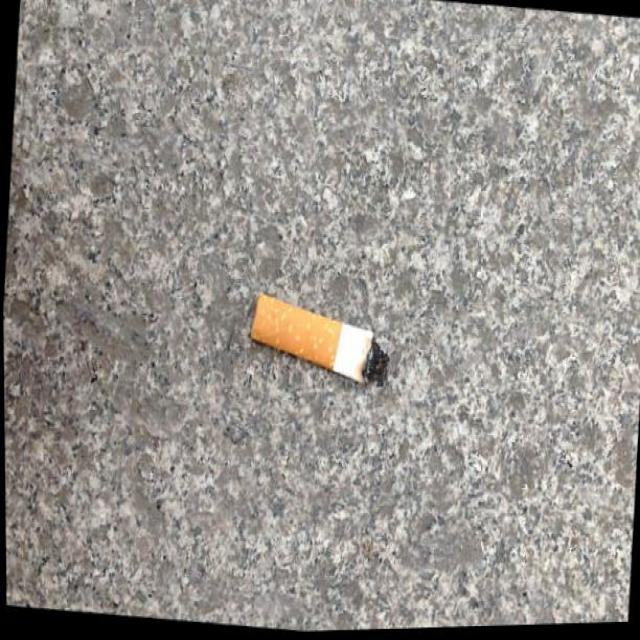cigarette: (245, 287, 394, 398)
